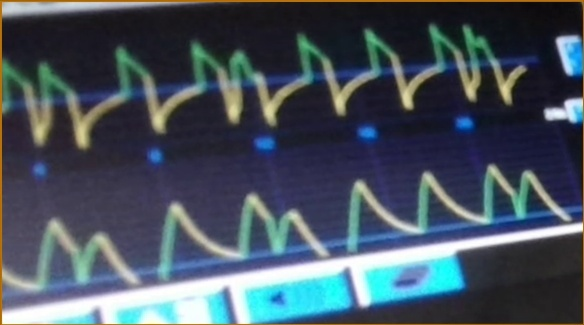Double_Triggering Flow: (5, 16, 526, 142)
Double_Triggering Volume: (6, 163, 568, 290)
